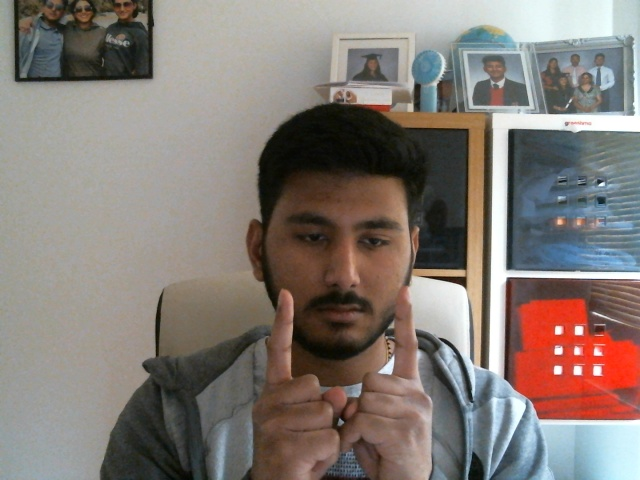meet: (262, 288, 423, 433)
